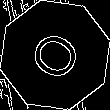O_SE: (22, 24, 88, 86)
